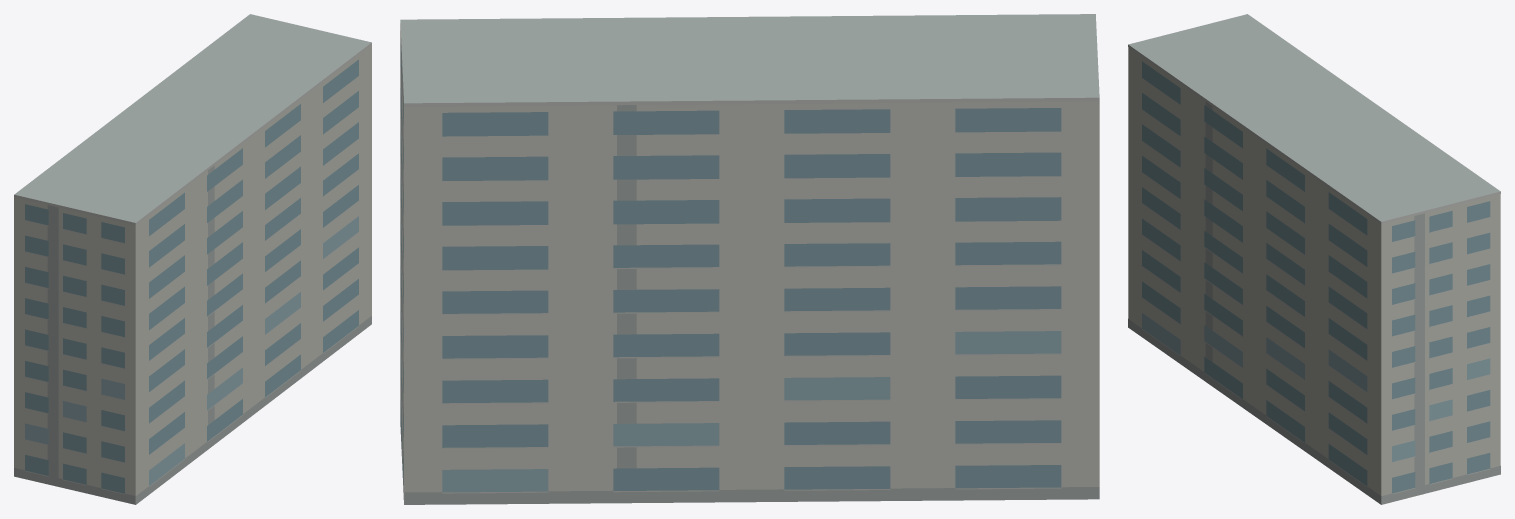
Rendered from residential-65d038b9-c10f-445d-9893-25b4b1eedf9a.glb.
The picture shows the model from 3 angles, left to right: view 1: azimuth 30°, elevation 25°; view 2: azimuth 150°, elevation 25°; view 3: azimuth 270°, elevation 25°; orthographic projection. The views are drawn at different scales.
Parts seen in each view (by area): view 1: residential-65d038b9-c10f-445d-9893-25b4b1eedf9a.tmp; view 2: residential-65d038b9-c10f-445d-9893-25b4b1eedf9a.tmp; view 3: residential-65d038b9-c10f-445d-9893-25b4b1eedf9a.tmp.
Boxes of the visible parts, x1=… form: residential-65d038b9-c10f-445d-9893-25b4b1eedf9a.tmp: x1=14, y1=14, x2=371, y2=504; residential-65d038b9-c10f-445d-9893-25b4b1eedf9a.tmp: x1=400, y1=14, x2=1099, y2=504; residential-65d038b9-c10f-445d-9893-25b4b1eedf9a.tmp: x1=1128, y1=14, x2=1500, y2=504.
Bounding box in the file's own units: 42.54 × 27 × 32.23.
